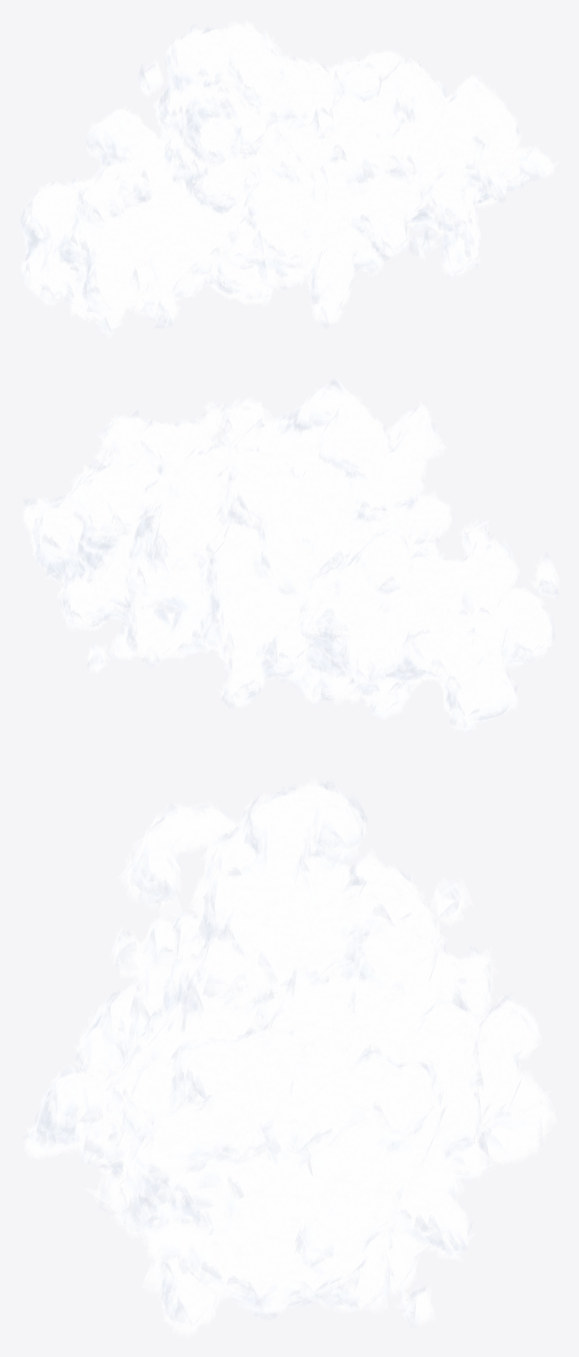
File: cloud.glb
3 renders of one model, top to bottom at view 1: azimuth 30°, elevation 25°; view 2: azimuth 150°, elevation 25°; view 3: azimuth 270°, elevation 25°, orthographic. The views are drawn at different scales.
Visible parts, largest first — view 1: Object_4; view 2: Object_4; view 3: Object_4.
Part boxes in pixels (left/top/right/bottom): Object_4: left=20, top=20, right=559, bottom=338; Object_4: left=21, top=378, right=559, bottom=732; Object_4: left=23, top=778, right=556, bottom=1338.
Size of the model in its own units: 11.15 by 6.4 by 7.43.
1 material, 1 textured.
